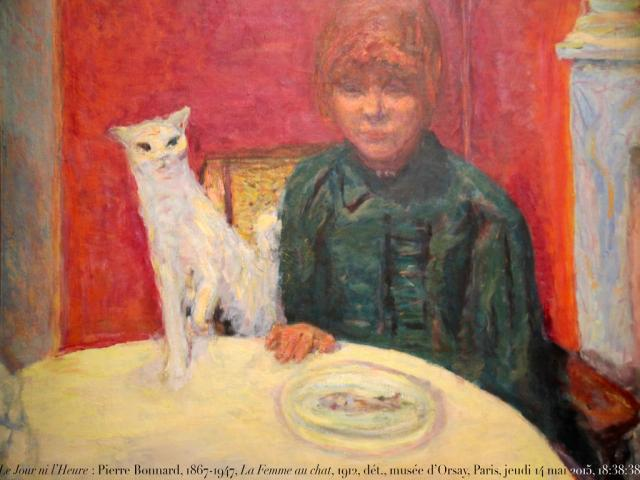Cat: (108, 107, 278, 391)
